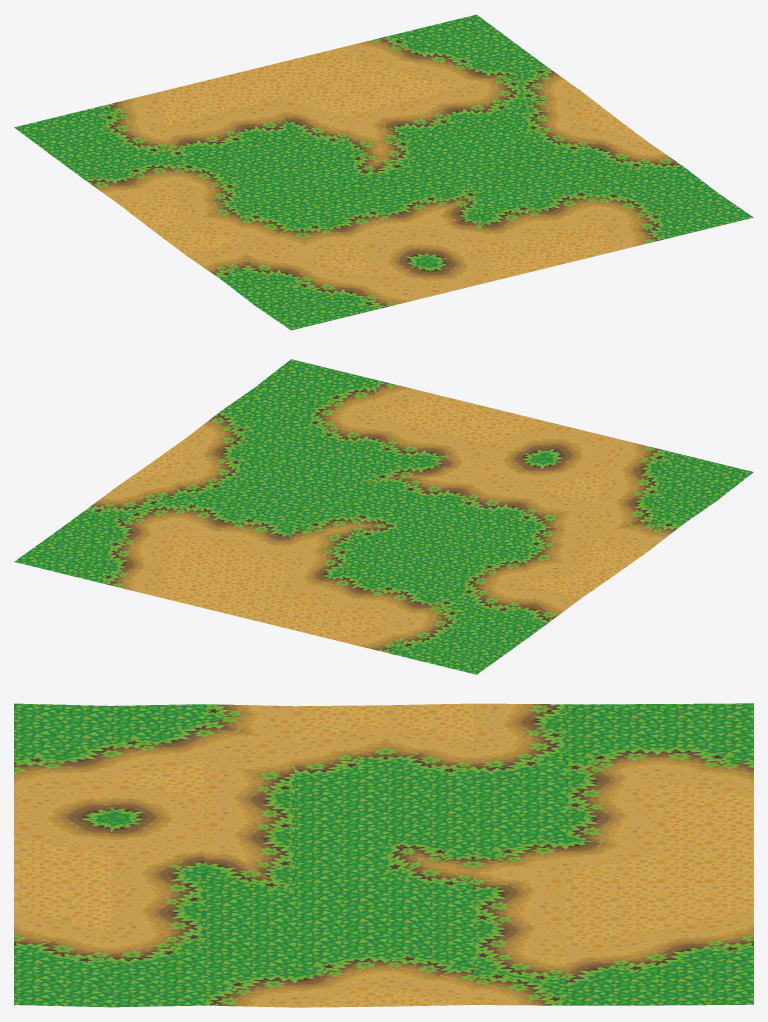
The model's file is c_grd_f_4.001.glb.
The picture shows the model from 3 angles, top to bottom: view 1: azimuth 30°, elevation 25°; view 2: azimuth 150°, elevation 25°; view 3: azimuth 270°, elevation 25°; orthographic projection. The views are drawn at different scales.
Parts seen in each view (by area): view 1: c_grd_f_4.001; view 2: c_grd_f_4.001; view 3: c_grd_f_4.001.
Part boxes in pixels (x1,y1,x2,y2): c_grd_f_4.001: (14,14,753,330); c_grd_f_4.001: (14,359,753,674); c_grd_f_4.001: (14,703,753,1007).
Size of the model in its own units: 32 by 0.1406 by 33.2.
Materials: 3 (3 with a texture image).
